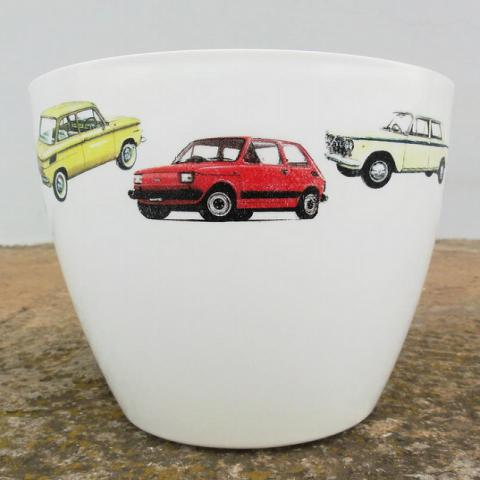car: (130, 139, 330, 223), (35, 101, 148, 204), (324, 111, 449, 189)
